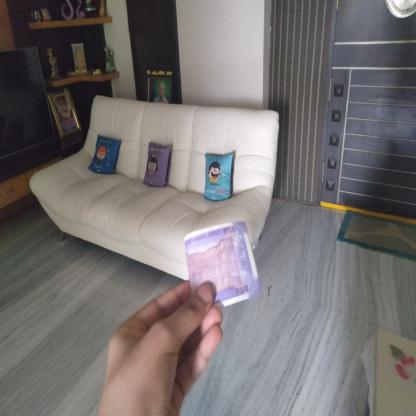New100Back: (186, 228, 252, 304)
